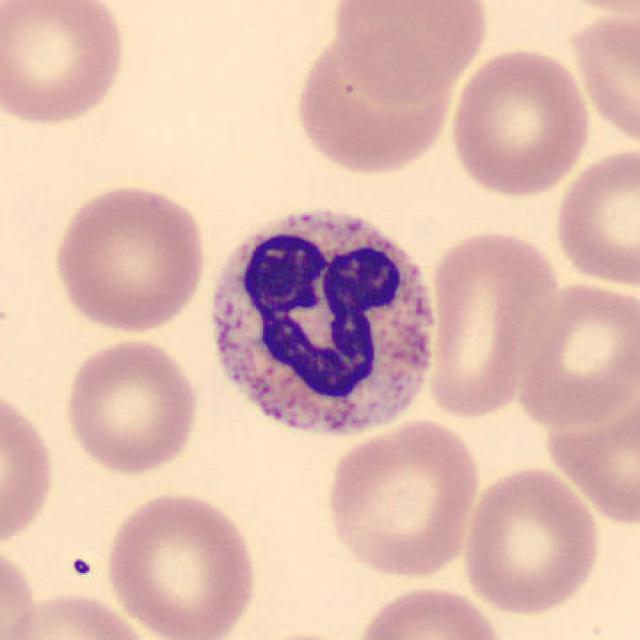Neutrophil: (197, 196, 450, 455)
Platelets: (66, 552, 98, 582)
RBC: (419, 226, 564, 420), (320, 414, 484, 580), (290, 25, 460, 178), (48, 180, 212, 337), (103, 486, 261, 640), (444, 42, 594, 200), (458, 462, 604, 617), (61, 335, 202, 478), (508, 277, 638, 430), (329, 0, 491, 106), (0, 0, 131, 130), (550, 143, 638, 289), (564, 5, 638, 152), (0, 382, 59, 552), (350, 582, 510, 640), (3, 589, 153, 640), (0, 541, 43, 640), (229, 627, 378, 640), (538, 0, 640, 16)
